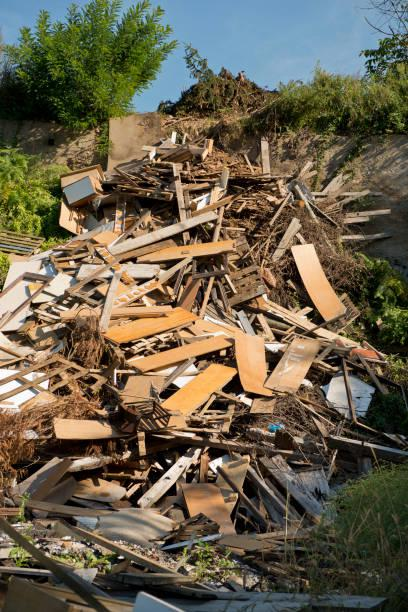wood: (177, 475, 248, 565), (2, 353, 110, 408), (160, 361, 237, 430), (287, 241, 347, 328), (94, 308, 204, 342), (55, 167, 110, 208), (128, 240, 239, 259), (51, 415, 126, 443), (2, 229, 50, 260)
